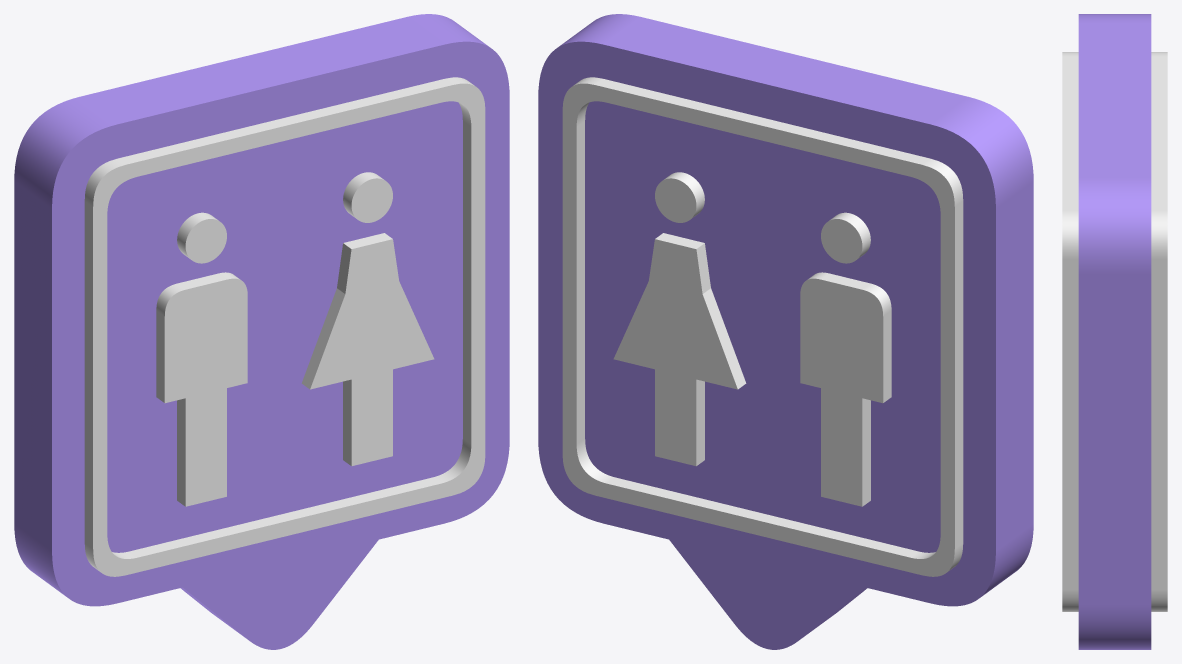
File: restroom_3d.glb
The picture shows the model from 3 angles, left to right: view 1: azimuth 30°, elevation 25°; view 2: azimuth 150°, elevation 25°; view 3: azimuth 270°, elevation 25°; orthographic projection. The views are drawn at different scales.
Size of the model in its own units: 0.2206 by 0.26 by 0.0456.
